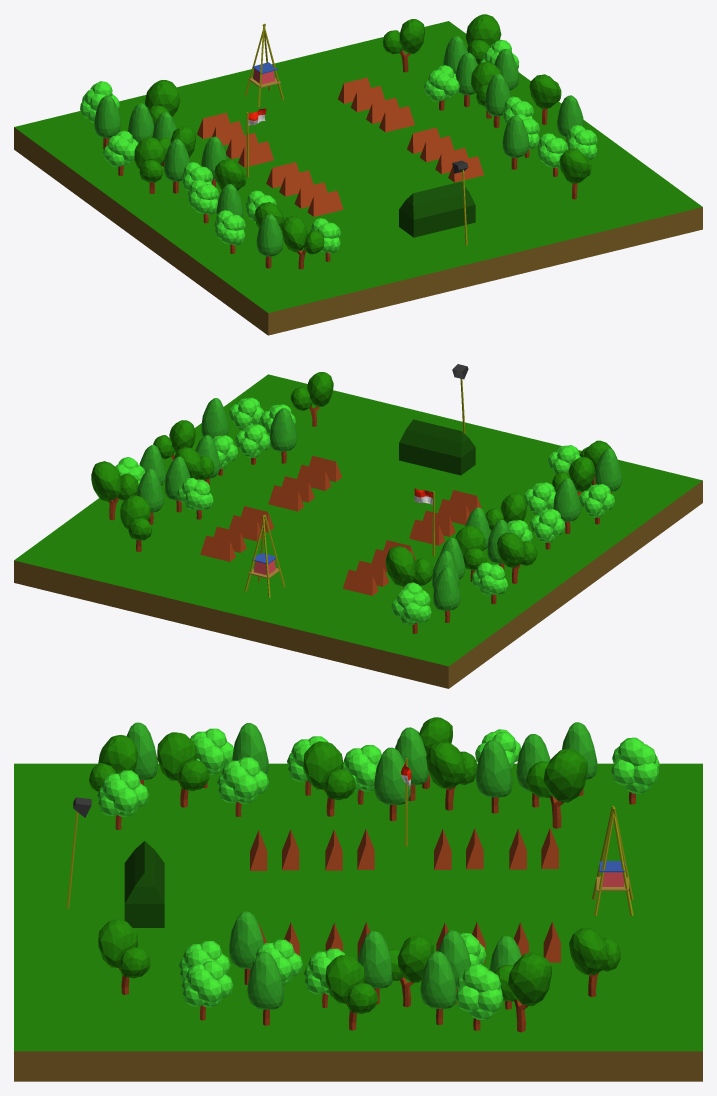
Rendered from desbah.gltf.
The picture shows the model from 3 angles, top to bottom: view 1: azimuth 30°, elevation 25°; view 2: azimuth 150°, elevation 25°; view 3: azimuth 270°, elevation 25°; orthographic projection. The views are drawn at different scales.
Visible parts, largest first — view 1: Lap, mako, Icosphere.144, Icosphere.139, Icosphere.029, Icosphere.023, Icosphere.130, Icosphere.134, Icosphere.128, Icosphere.137, Icosphere, Icosphere.142 (+18 smaller); view 2: Lap, mako, Icosphere.023, Icosphere.130, Icosphere.029, Icosphere.139, Icosphere.025, Icosphere.144, Icosphere.142, Icosphere.061, Icosphere.141, Icosphere.134 (+17 smaller); view 3: Lap, mako, Icosphere.023, Icosphere.130, Icosphere.028, Icosphere.142, Icosphere.140, Icosphere.032, Icosphere.137, Icosphere.027, Icosphere.132, Icosphere.139 (+22 smaller).
Part boxes in pixels (x1,y1,x2,y2): Lap: [14, 21, 702, 335]; mako: [399, 181, 475, 237]; Icosphere.144: [256, 214, 283, 256]; Icosphere.139: [502, 115, 528, 158]; Icosphere.029: [94, 95, 120, 138]; Icosphere.023: [145, 80, 180, 116]; Icosphere.130: [465, 14, 501, 46]; Icosphere.134: [559, 149, 589, 183]; Icosphere.128: [529, 74, 559, 109]; Icosphere.137: [485, 73, 510, 116]; Icosphere: [164, 139, 190, 181]; Icosphere.142: [557, 95, 583, 137]; Lap: [14, 374, 702, 688]; mako: [399, 419, 475, 475]; Icosphere.023: [385, 545, 416, 586]; Icosphere.130: [91, 461, 121, 501]; Icosphere.029: [433, 567, 460, 611]; Icosphere.139: [269, 408, 296, 451]; Icosphere.025: [553, 478, 580, 522]; Icosphere.144: [595, 448, 621, 491]; Icosphere.142: [201, 398, 228, 438]; Icosphere.061: [497, 532, 525, 567]; Icosphere.141: [137, 469, 163, 512]; Icosphere.134: [307, 372, 333, 406]; Lap: [14, 763, 702, 1081]; mako: [124, 841, 164, 927]; Icosphere.023: [543, 749, 587, 802]; Icosphere.130: [508, 952, 551, 1006]; Icosphere.028: [475, 740, 512, 797]; Icosphere.142: [247, 952, 283, 1009]; Icosphere.140: [420, 951, 456, 1008]; Icosphere.032: [374, 747, 410, 804]; Icosphere.137: [358, 931, 392, 988]; Icosphere.027: [426, 741, 465, 788]; Icosphere.132: [569, 928, 608, 974]; Icosphere.139: [229, 911, 263, 968].
Size of what is drawn, in the model's own units: 7.57 by 1.69 by 7.67.
